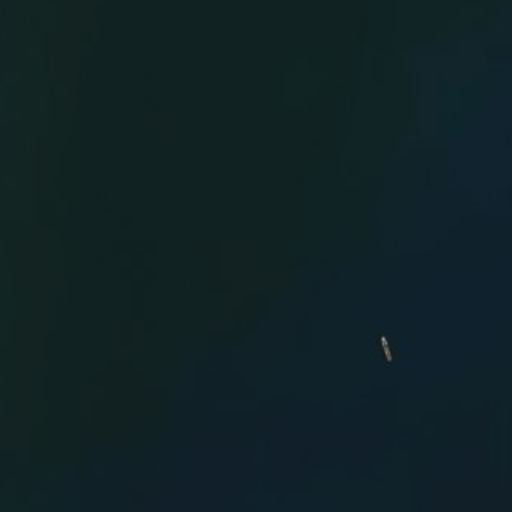ship: (377, 332, 394, 366)
